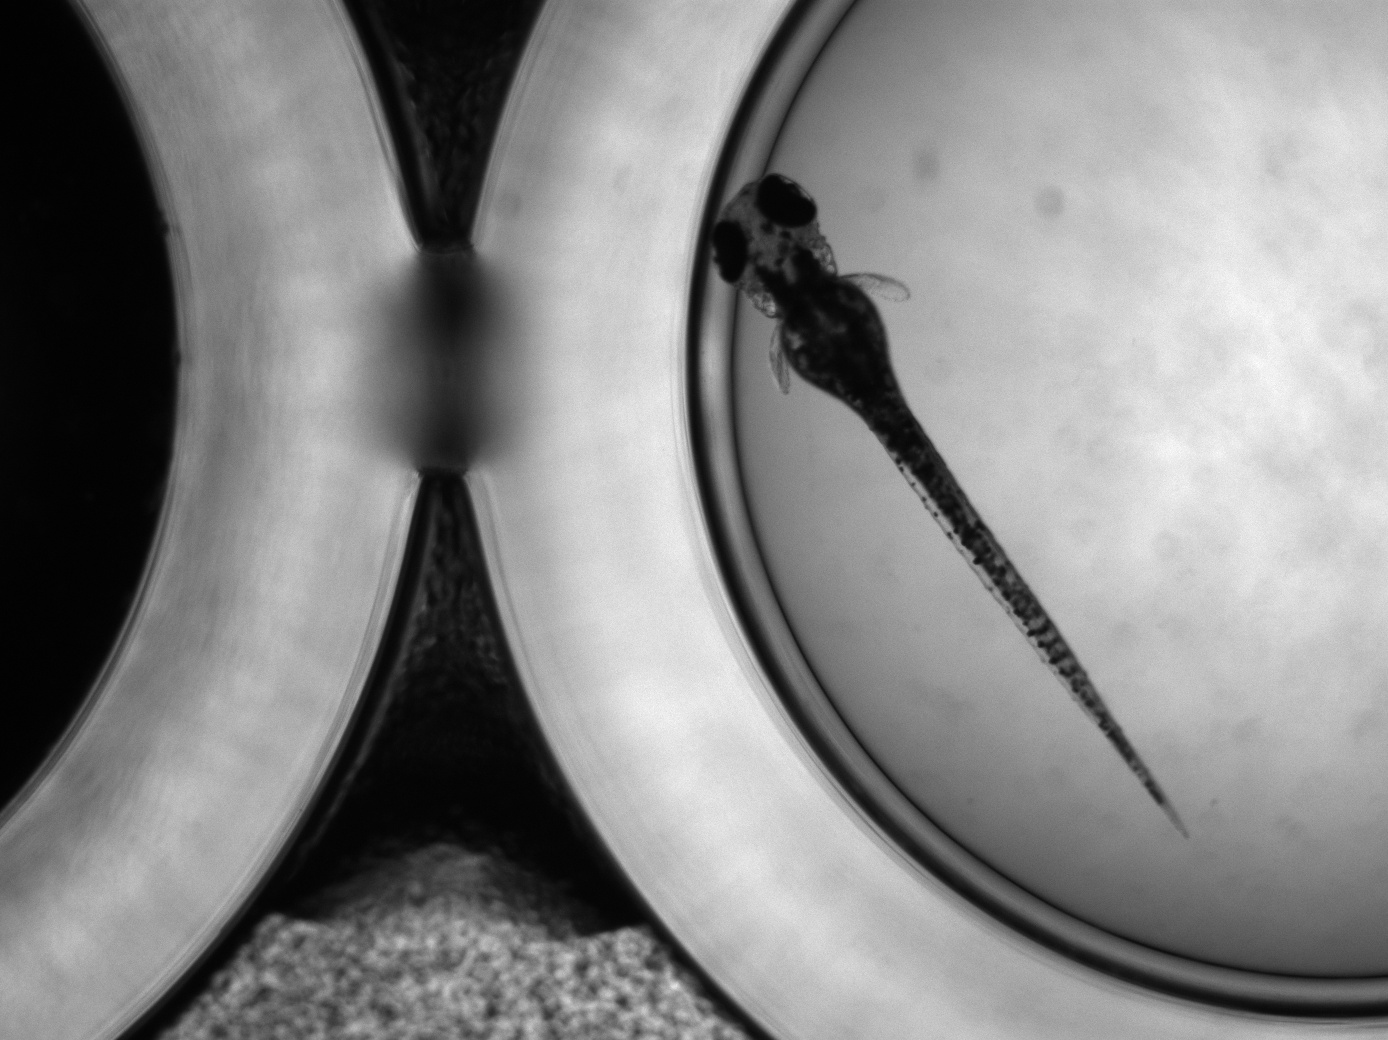embryo: (709, 173, 1193, 843)
eye: (755, 174, 815, 227), (711, 218, 748, 284)
yolksac: (778, 279, 890, 395)
